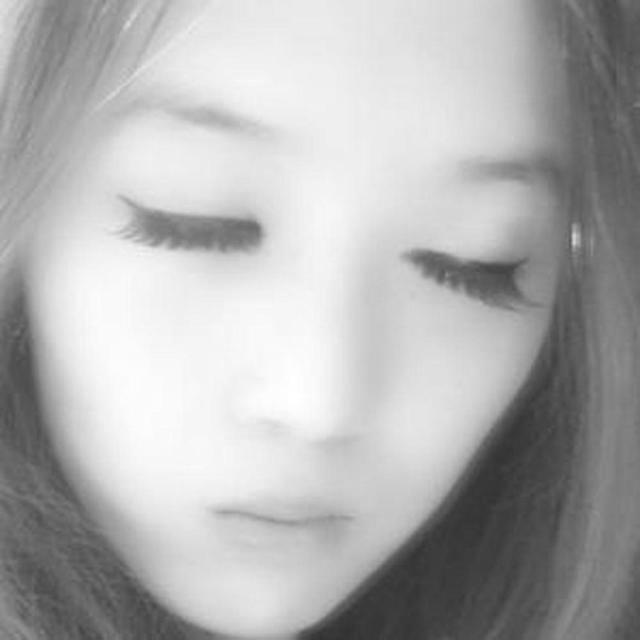real: (21, 0, 576, 640), (102, 158, 550, 324)
